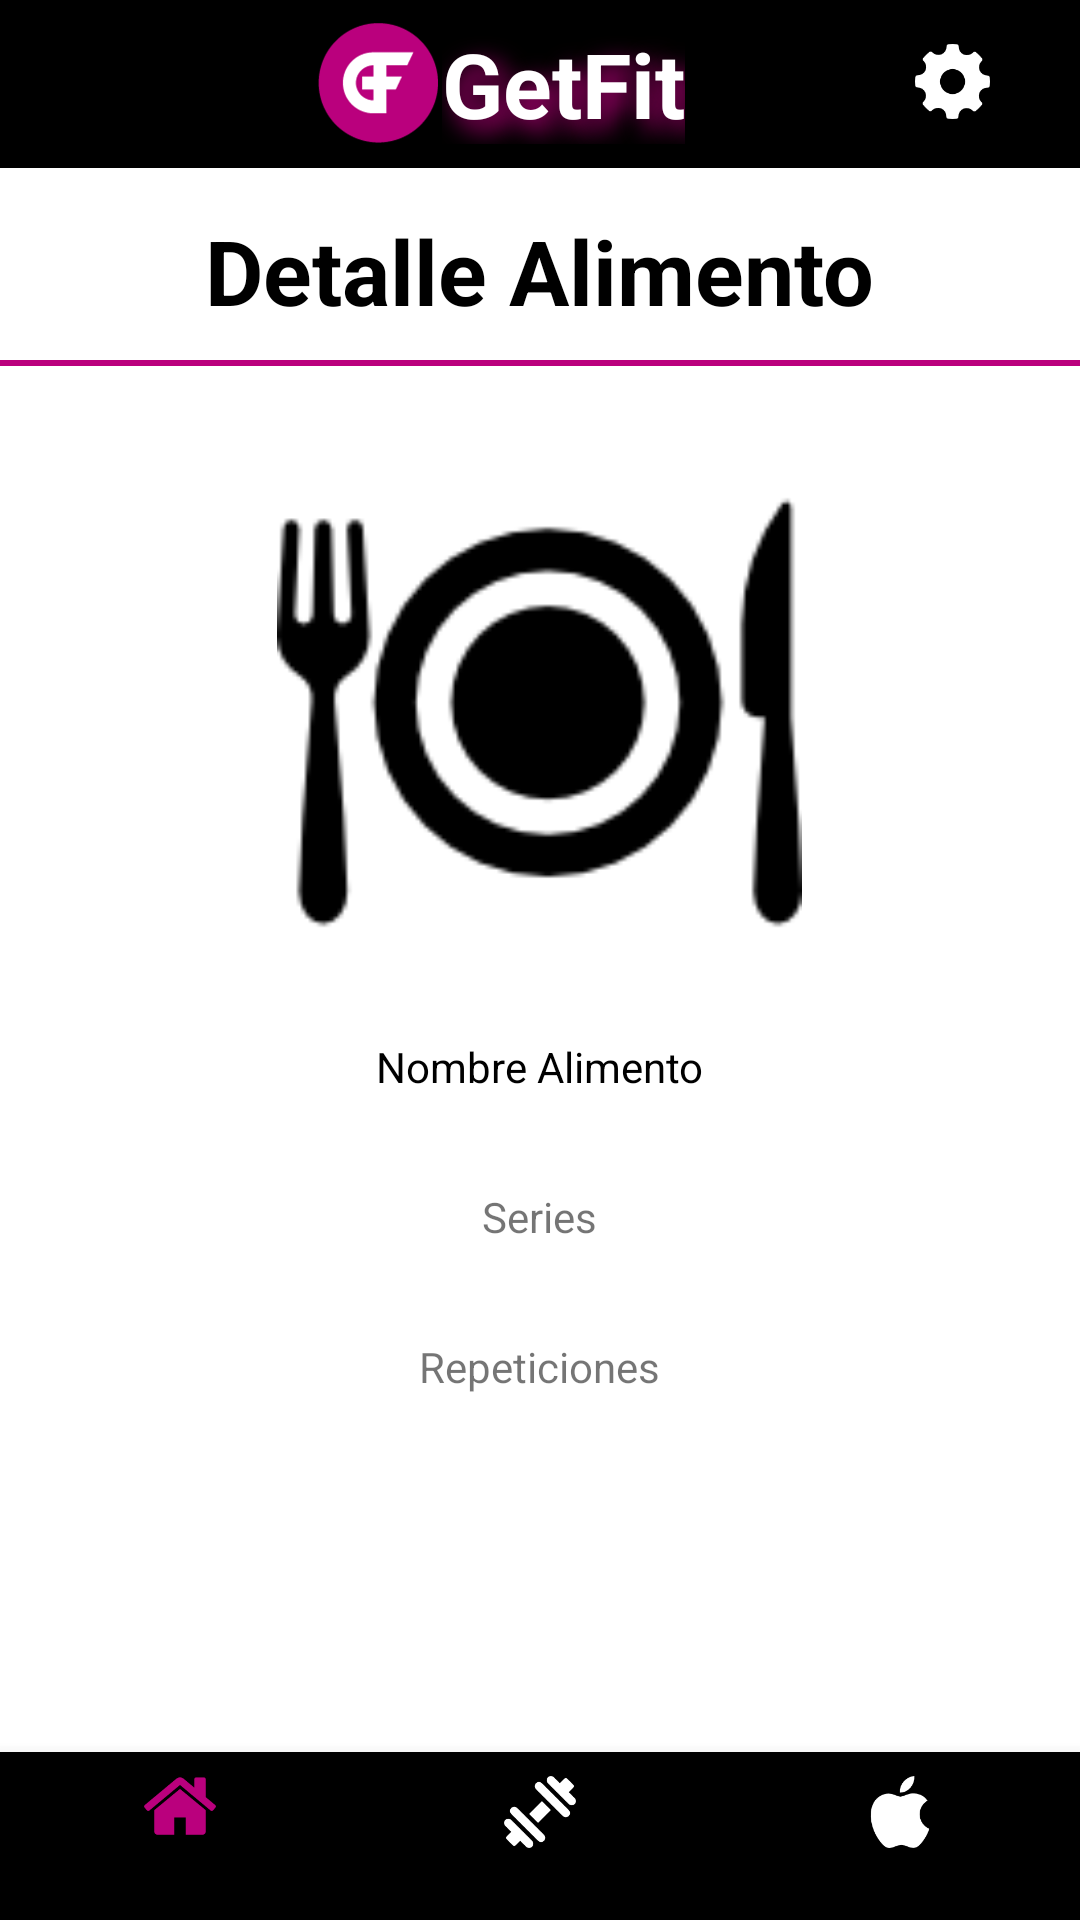

Where icons sit on this 1080×1920 app screen, as (x1, y1, x2, y2):
ajustes: (915, 44, 990, 119)
